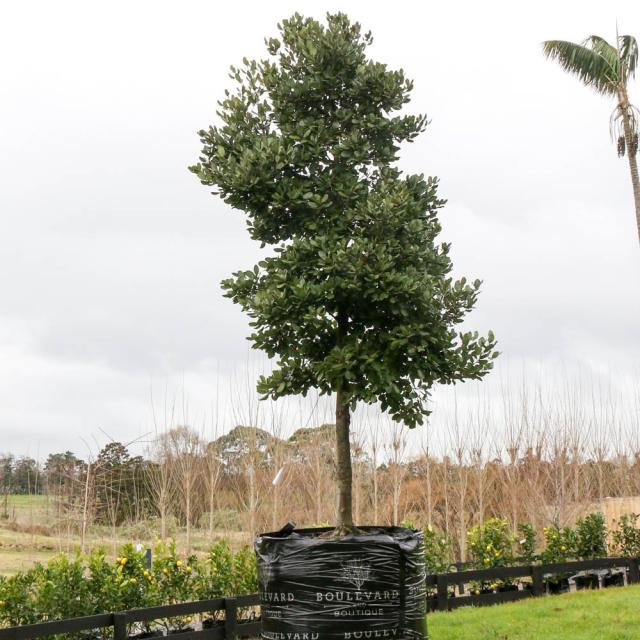Taraire: (180, 8, 503, 528)
